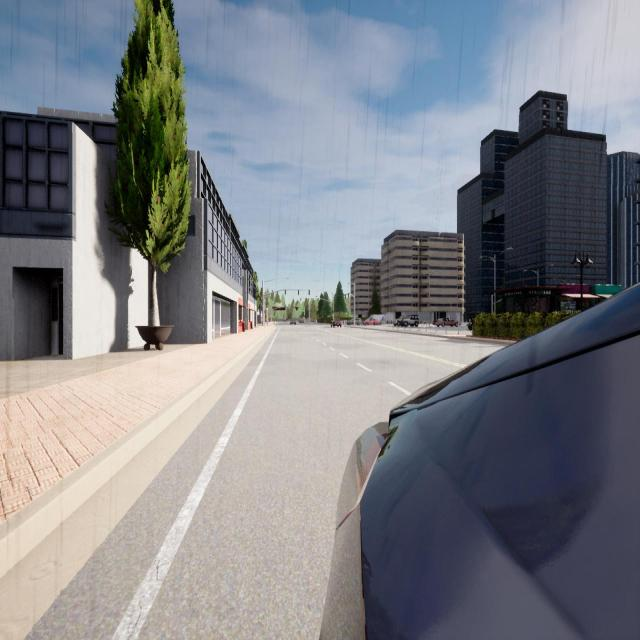Vehicle: (321, 285, 639, 638), (394, 314, 418, 326), (363, 314, 385, 326), (436, 318, 459, 327), (349, 318, 361, 325), (468, 316, 473, 330), (333, 320, 342, 327), (290, 319, 296, 325), (299, 320, 304, 322)
traffic_light: (308, 290, 310, 295), (298, 290, 299, 295), (348, 293, 349, 298), (345, 295, 346, 299), (285, 290, 286, 294), (332, 310, 333, 313), (300, 299, 301, 301), (308, 298, 309, 300), (318, 299, 318, 301)
